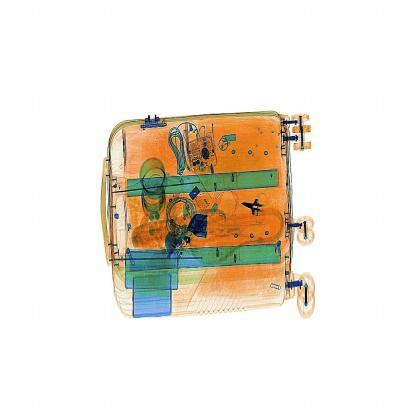gun: (233, 190, 283, 229)
